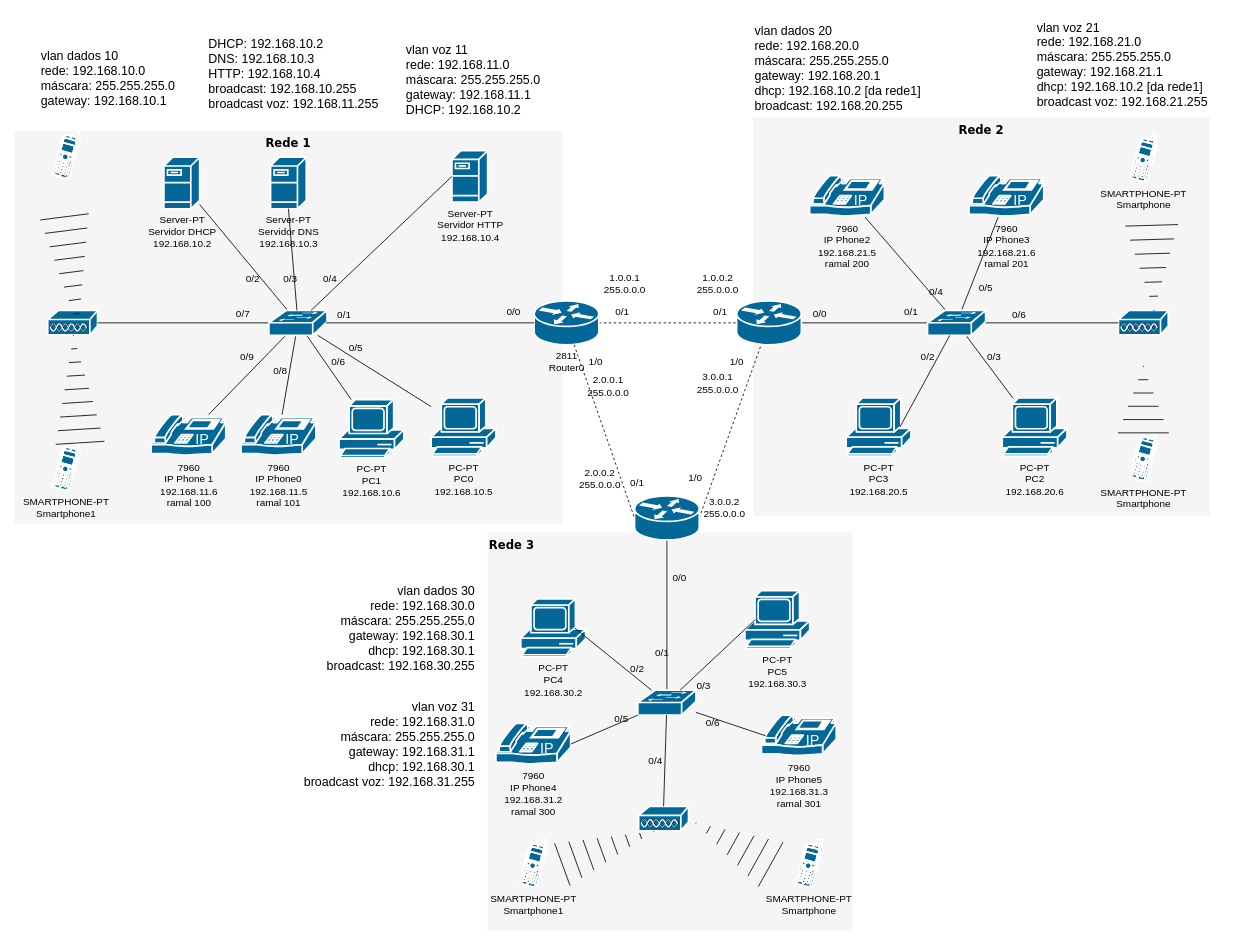
The diagram is 1240 pixels wide and 945 high, and some of its shapes have lost their labels. Here are the shapes that lost their labels. From the top down, the centre of each, then its label:
At [66,154]: "SMARTPHONE-PT Smartphone0".
At [72,322]: "AccessPoint-PT Access Point0 SSID: rede1".
At [297,322]: "Switch 2950-24 Switch0".
At [768,322]: "2811 Router1".
At [956,322]: "2950-24 Switch1".
At [1143,322]: "AccessPoint-PT Access Point 1 SSID: rede2".
At [666,517]: "2811 Router2".
At [666,702]: "2950-24 Switch2".
At [663,818]: "AccessPoint-PT Access Point2 SSID: rede3".
